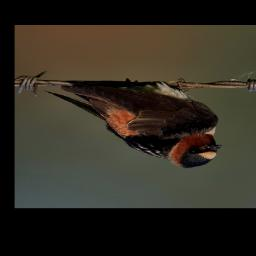Swallow: (42, 78, 223, 170)
